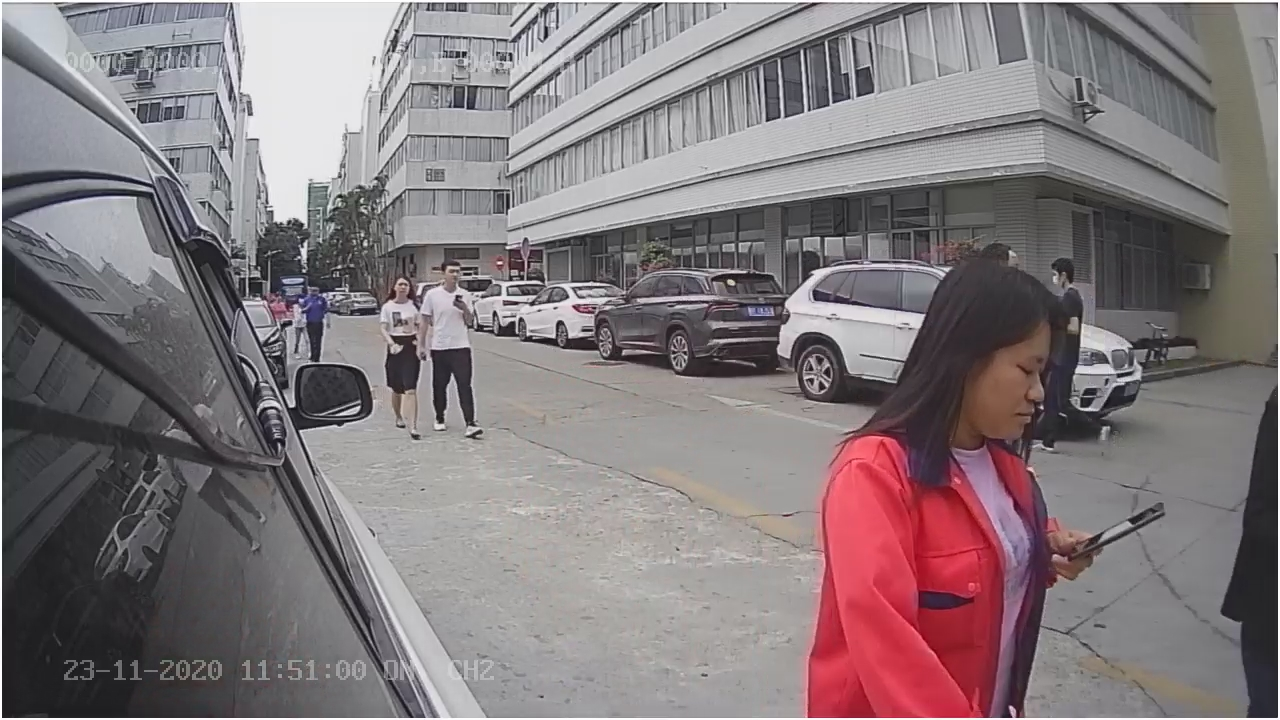person: (374, 269, 430, 440)
